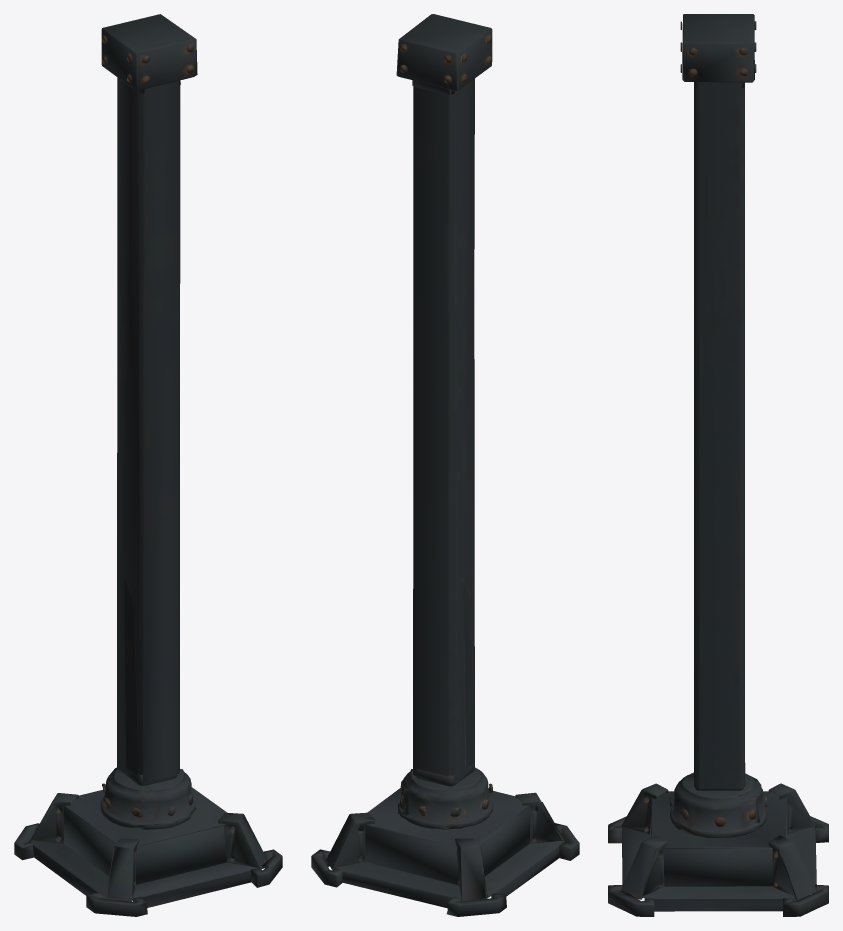
The model's file is support-pillar.glb.
3 views of the same model, side by side, from view 1: azimuth 30°, elevation 25°; view 2: azimuth 150°, elevation 25°; view 3: azimuth 270°, elevation 25° (orthographic).
Size of the model in its own units: 0.2374 by 1 by 0.2374.
Materials: 1 (1 with a texture image).
